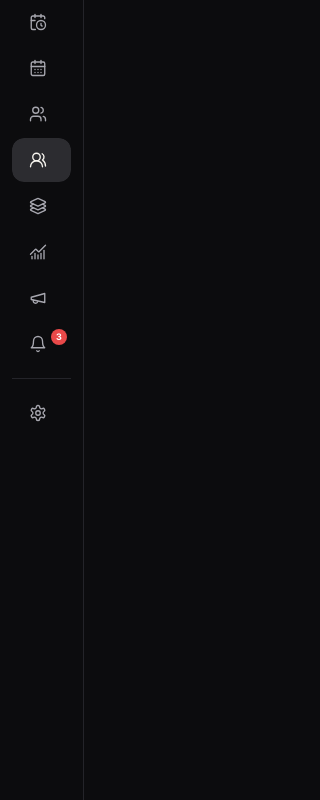
Test: navegação por áreas › expande a barra recolhida ao escolher uma área com submenu
Step 1. Click the button named "Clientes" → (42, 114), box [12,92,71,136]
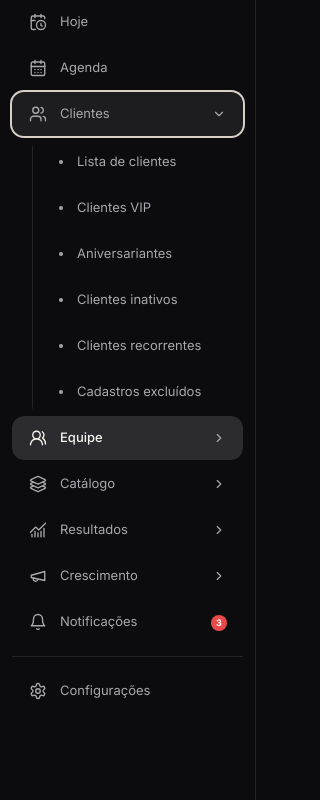
Result: the list named "Navegação de Clientes" is shown at [32,140,243,414]
